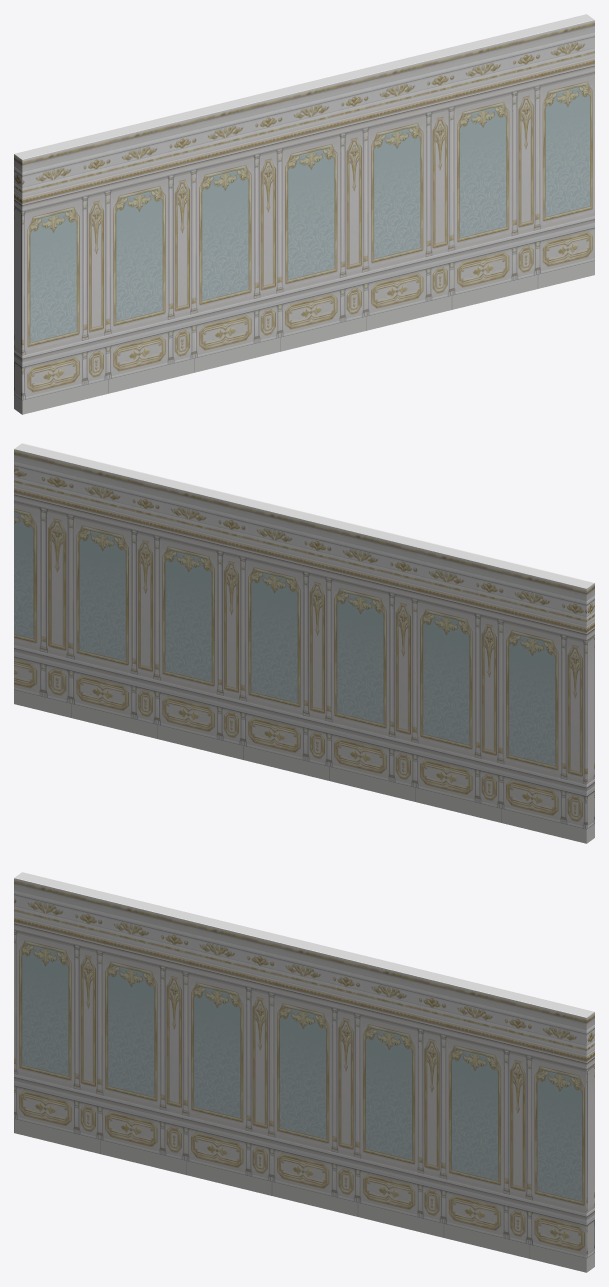
The model's file is my_teaparty_01_wall_left_1x20.glb.
3 views of the same model, one above another, from view 1: azimuth 30°, elevation 25°; view 2: azimuth 150°, elevation 25°; view 3: azimuth 330°, elevation 25° (orthographic).
Parts seen in each view (by area): view 1: my_teaparty_01_wall_left_1x20; view 2: my_teaparty_01_wall_left_1x20; view 3: my_teaparty_01_wall_left_1x20.
Boxes of the visible parts, x1,y1,x2,y2 form: my_teaparty_01_wall_left_1x20: (14, 14, 594, 414); my_teaparty_01_wall_left_1x20: (14, 443, 594, 843); my_teaparty_01_wall_left_1x20: (14, 872, 594, 1272).
Size of the model in its own units: 0.12 by 0.051 by 0.00297.
1 material, 1 textured.
